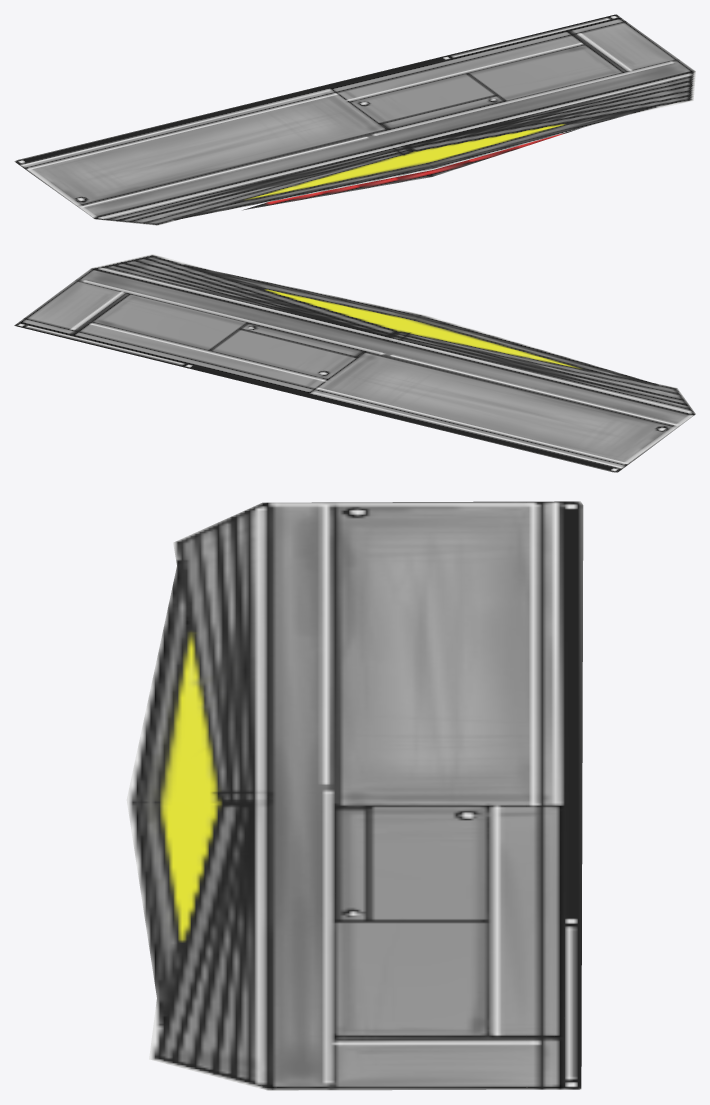
Rendered from elevator 1.FBX.
3 renders of one model, top to bottom at view 1: azimuth 30°, elevation 25°; view 2: azimuth 150°, elevation 25°; view 3: azimuth 270°, elevation 25°, orthographic. The views are drawn at different scales.
Parts seen in each view (by area): view 1: Plane002, Plane004; view 2: Plane002; view 3: Plane002.
Part boxes in pixels (x1,y1,x2,y2): Plane002: [14, 14, 695, 225]; Plane004: [242, 128, 579, 210]; Plane002: [14, 254, 695, 472]; Plane002: [126, 501, 583, 1090].
Size of the model in its own units: 108 by 1.69 by 35.53.
Materials: 2 (2 with a texture image).
